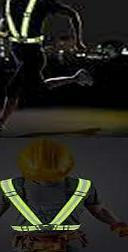Vest: (2, 175, 91, 242), (0, 0, 47, 48)
